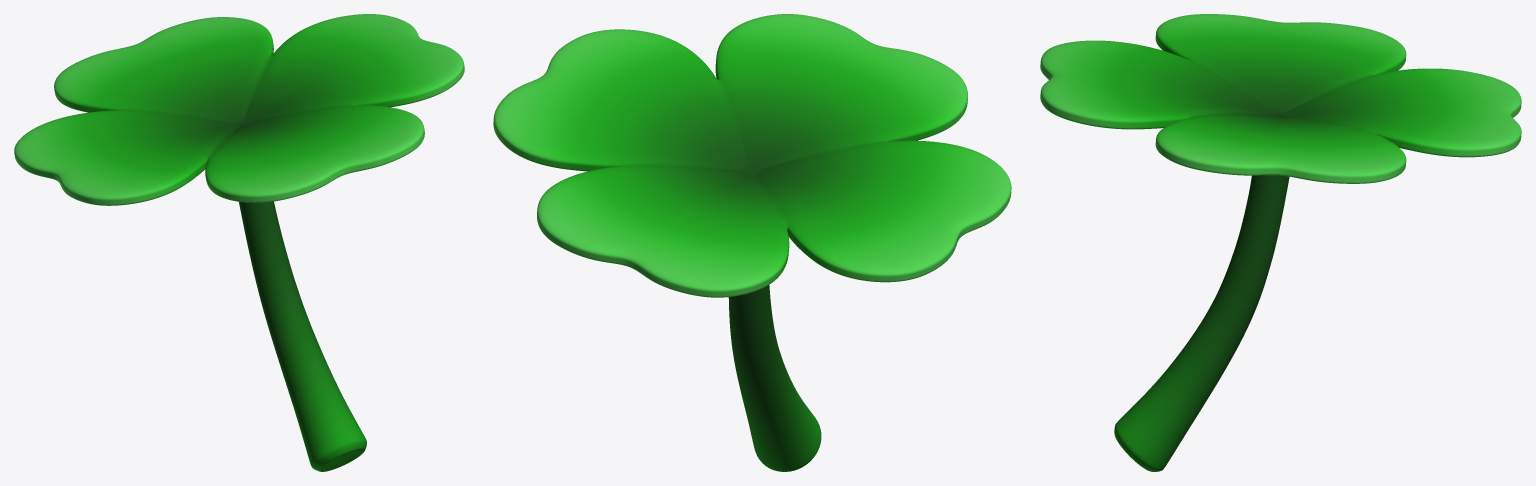
The picture shows the model from 3 angles, left to right: view 1: azimuth 30°, elevation 25°; view 2: azimuth 150°, elevation 25°; view 3: azimuth 270°, elevation 25°; orthographic projection. The views are drawn at different scales.
Parts seen in each view (by area): view 1: Mesh_0; view 2: Mesh_0; view 3: Mesh_0.
Part boxes in pixels (x1,y1,x2,y2): Mesh_0: [14, 14, 464, 471]; Mesh_0: [493, 14, 1011, 471]; Mesh_0: [1040, 14, 1521, 471].
Size of the model in its own units: 4.79 by 4.27 by 4.79.
1 material, 1 textured.
